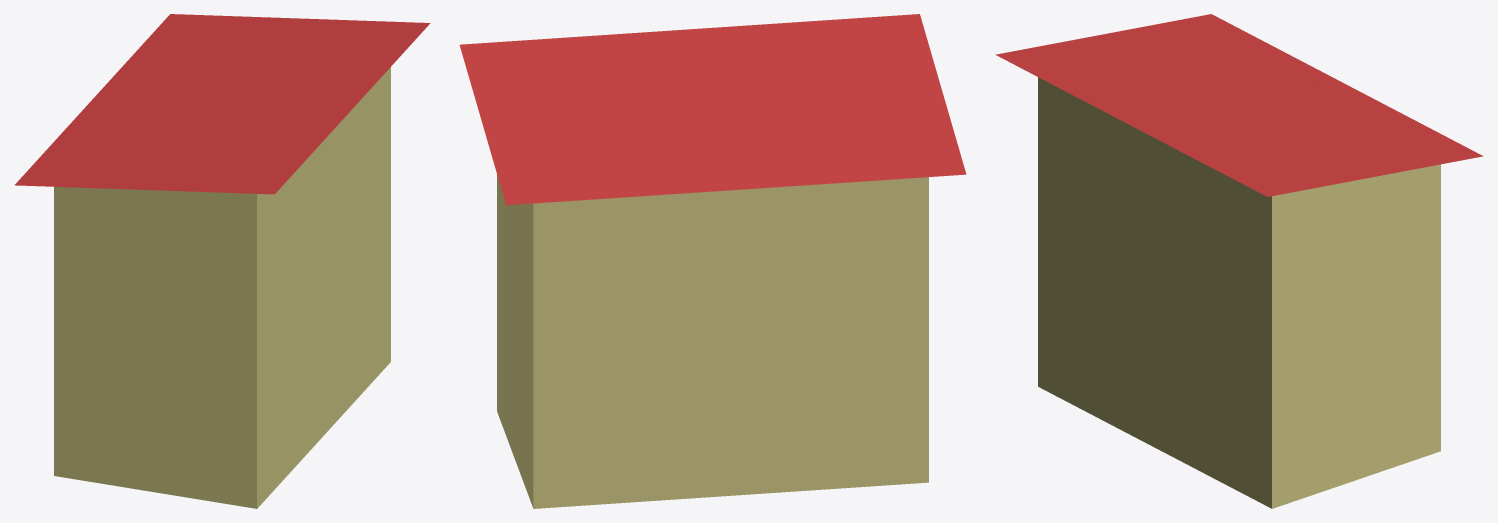
3 renders of one model, left to right at view 1: azimuth 30°, elevation 25°; view 2: azimuth 150°, elevation 25°; view 3: azimuth 270°, elevation 25°, orthographic. The views are drawn at different scales.
Bounding box in the file's own units: 8.38 × 8 × 5.96.
